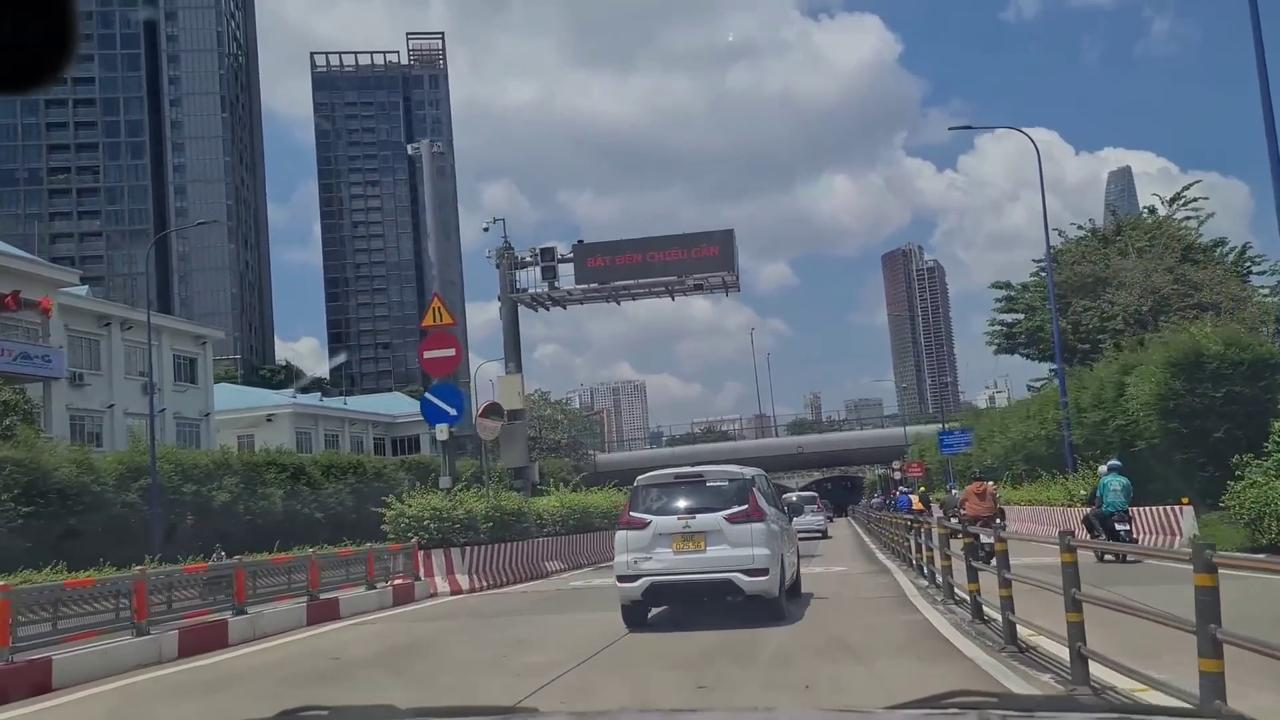Cấm đi ngược chiều: (419, 329, 462, 379)
Hướng phải đi vòng sang phải: (420, 382, 464, 425)
Đuờng hẹp: (418, 292, 457, 328)
